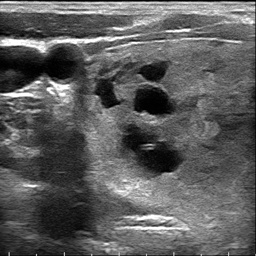mass: (85, 50, 199, 179)
